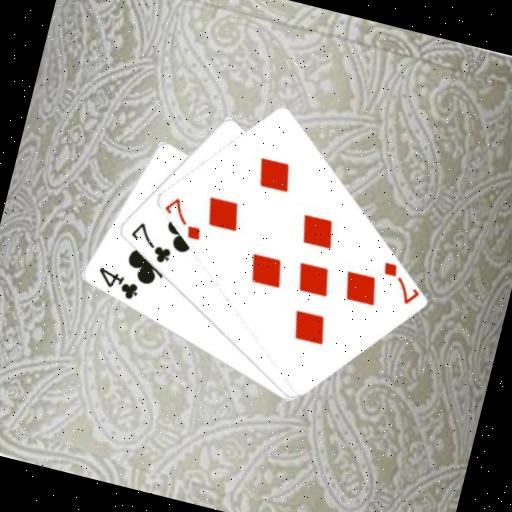4C: (90, 263, 143, 303)
7C: (122, 217, 179, 268)
7D: (156, 192, 210, 243), (372, 257, 426, 308)
